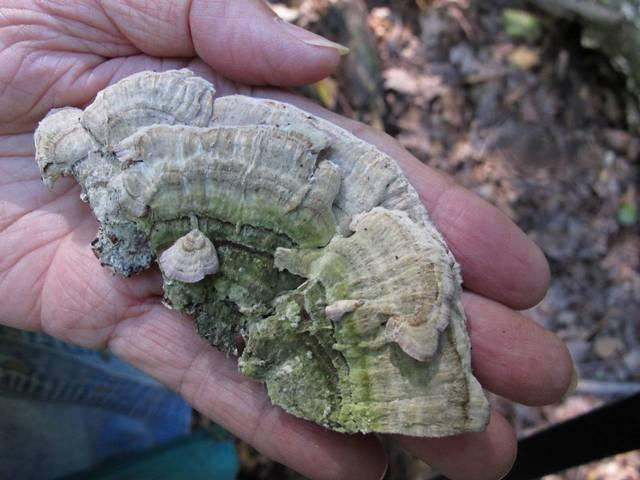Non-edible Mushroom: (32, 67, 491, 439)
